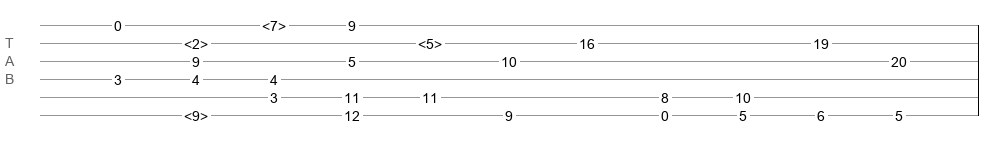0: (114, 18, 122, 28), (661, 108, 669, 118)
10: (501, 54, 517, 64), (735, 90, 751, 100)
11: (344, 90, 360, 100), (422, 90, 438, 100)
12: (344, 108, 360, 118)
16: (579, 36, 595, 46)
19: (813, 36, 829, 46)
20: (891, 54, 907, 64)
3: (114, 72, 122, 82), (270, 90, 278, 100)
4: (192, 72, 200, 82), (270, 72, 278, 82)
5: (348, 54, 356, 64), (739, 108, 747, 118), (895, 108, 903, 118)
6: (817, 108, 825, 118)
8: (661, 90, 669, 100)
9: (192, 54, 200, 64), (348, 18, 356, 28), (505, 108, 513, 118)
harmonic: (184, 108, 208, 118), (184, 36, 208, 46), (262, 18, 286, 28), (418, 36, 442, 46)
